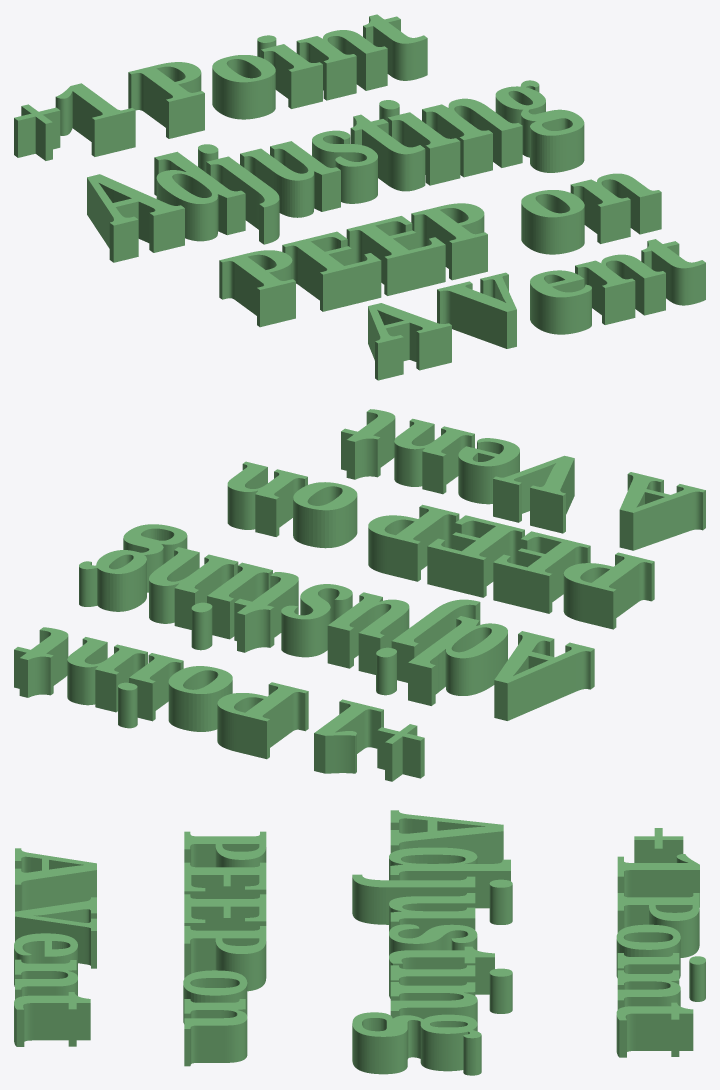
Rendered from pospeep.gltf.
The picture shows the model from 3 angles, top to bottom: view 1: azimuth 30°, elevation 25°; view 2: azimuth 150°, elevation 25°; view 3: azimuth 270°, elevation 25°; orthographic projection.
Parts seen in each view (by area): view 1: Mesh_Mesh_head_geo001_lambert2SG001; view 2: Mesh_Mesh_head_geo001_lambert2SG001; view 3: Mesh_Mesh_head_geo001_lambert2SG001.
Part boxes in pixels (x1=…): Mesh_Mesh_head_geo001_lambert2SG001: x1=14, y1=14, x2=705, y2=380; Mesh_Mesh_head_geo001_lambert2SG001: x1=14, y1=409, x2=705, y2=781; Mesh_Mesh_head_geo001_lambert2SG001: x1=14, y1=810, x2=705, y2=1075.
Size of the model in its own units: 131 by 10 by 168.
